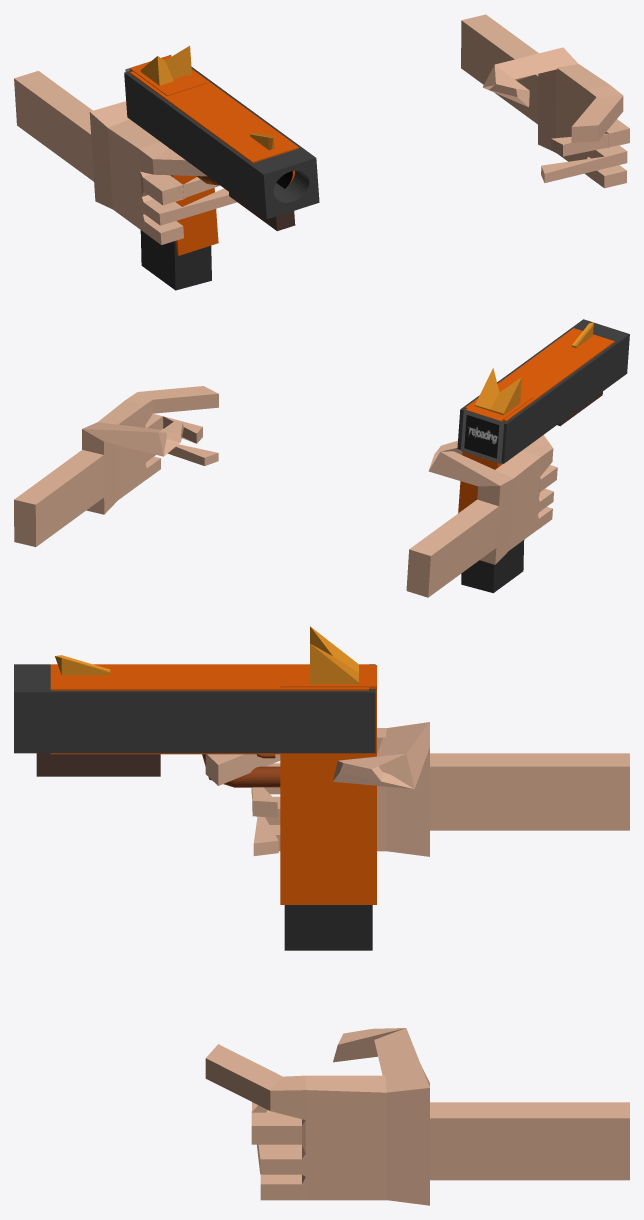
Rendered from gun pistol realoading frame 9.fbx.
The picture shows the model from 3 angles, top to bottom: view 1: azimuth 30°, elevation 25°; view 2: azimuth 150°, elevation 25°; view 3: azimuth 270°, elevation 25°; orthographic projection. The views are drawn at different scales.
Visible parts, largest first — view 1: Cube, Cube.008, Cube.005, Cube.001, Cube.004, Cube.002, Cube.006, Cube.003; view 2: Cube.008, Cube, Cube.005, Cube.001, Cube.004, Cube.006, Cube.002, Plane.001, Plane; view 3: Cube.008, Cube, Cube.005, Cube.002, Cube.001, Cube.004, Cube.003, Cube.006, Cylinder.
Part boxes in pixels (bbox=[...]): Cube: bbox=[14, 71, 236, 244]; Cube.008: bbox=[461, 14, 629, 188]; Cube.005: bbox=[124, 67, 319, 219]; Cube.001: bbox=[130, 69, 298, 184]; Cube.004: bbox=[140, 230, 211, 290]; Cube.002: bbox=[130, 55, 218, 255]; Cube.006: bbox=[140, 45, 191, 85]; Cube.003: bbox=[229, 192, 295, 231]; Cube.008: bbox=[14, 386, 218, 546]; Cube: bbox=[406, 435, 557, 597]; Cube.005: bbox=[457, 319, 629, 463]; Cube.001: bbox=[465, 328, 614, 421]; Cube.004: bbox=[461, 540, 524, 593]; Cube.006: bbox=[475, 368, 521, 415]; Cube.002: bbox=[458, 385, 533, 513]; Plane.001: bbox=[464, 415, 499, 458]; Plane: bbox=[461, 409, 504, 463]; Cube.008: bbox=[205, 1028, 629, 1205]; Cube: bbox=[205, 722, 629, 856]; Cube.005: bbox=[14, 664, 375, 753]; Cube.002: bbox=[280, 665, 376, 904]; Cube.001: bbox=[50, 664, 368, 754]; Cube.004: bbox=[284, 905, 372, 950]; Cube.003: bbox=[36, 753, 160, 776]; Cube.006: bbox=[310, 626, 358, 684]; Cylinder: bbox=[202, 754, 280, 787].
Size of the model in its own units: 804 by 376 by 698.
Materials: 11 (1 with a texture image).
